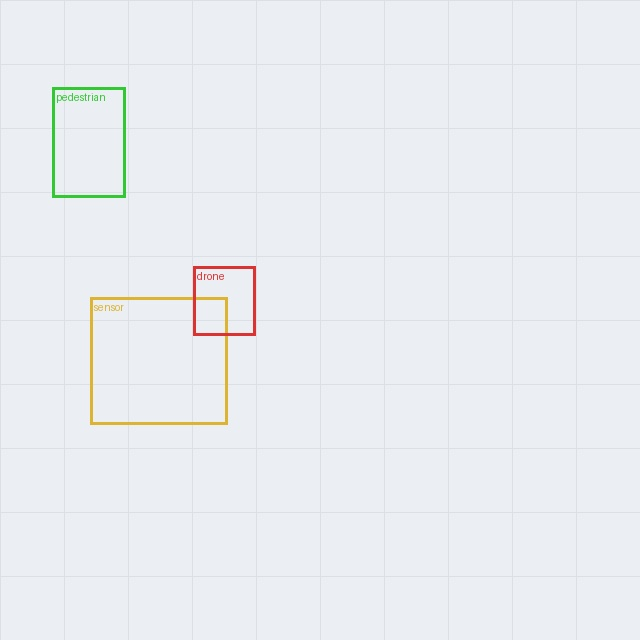drone: (193, 266, 255, 335)
pedestrian: (52, 87, 125, 197)
sensor: (90, 297, 227, 424)
